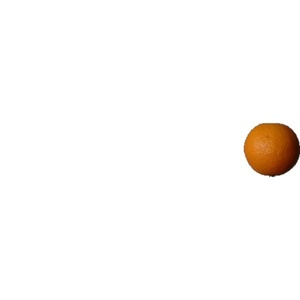laranja: (244, 121, 297, 180)
